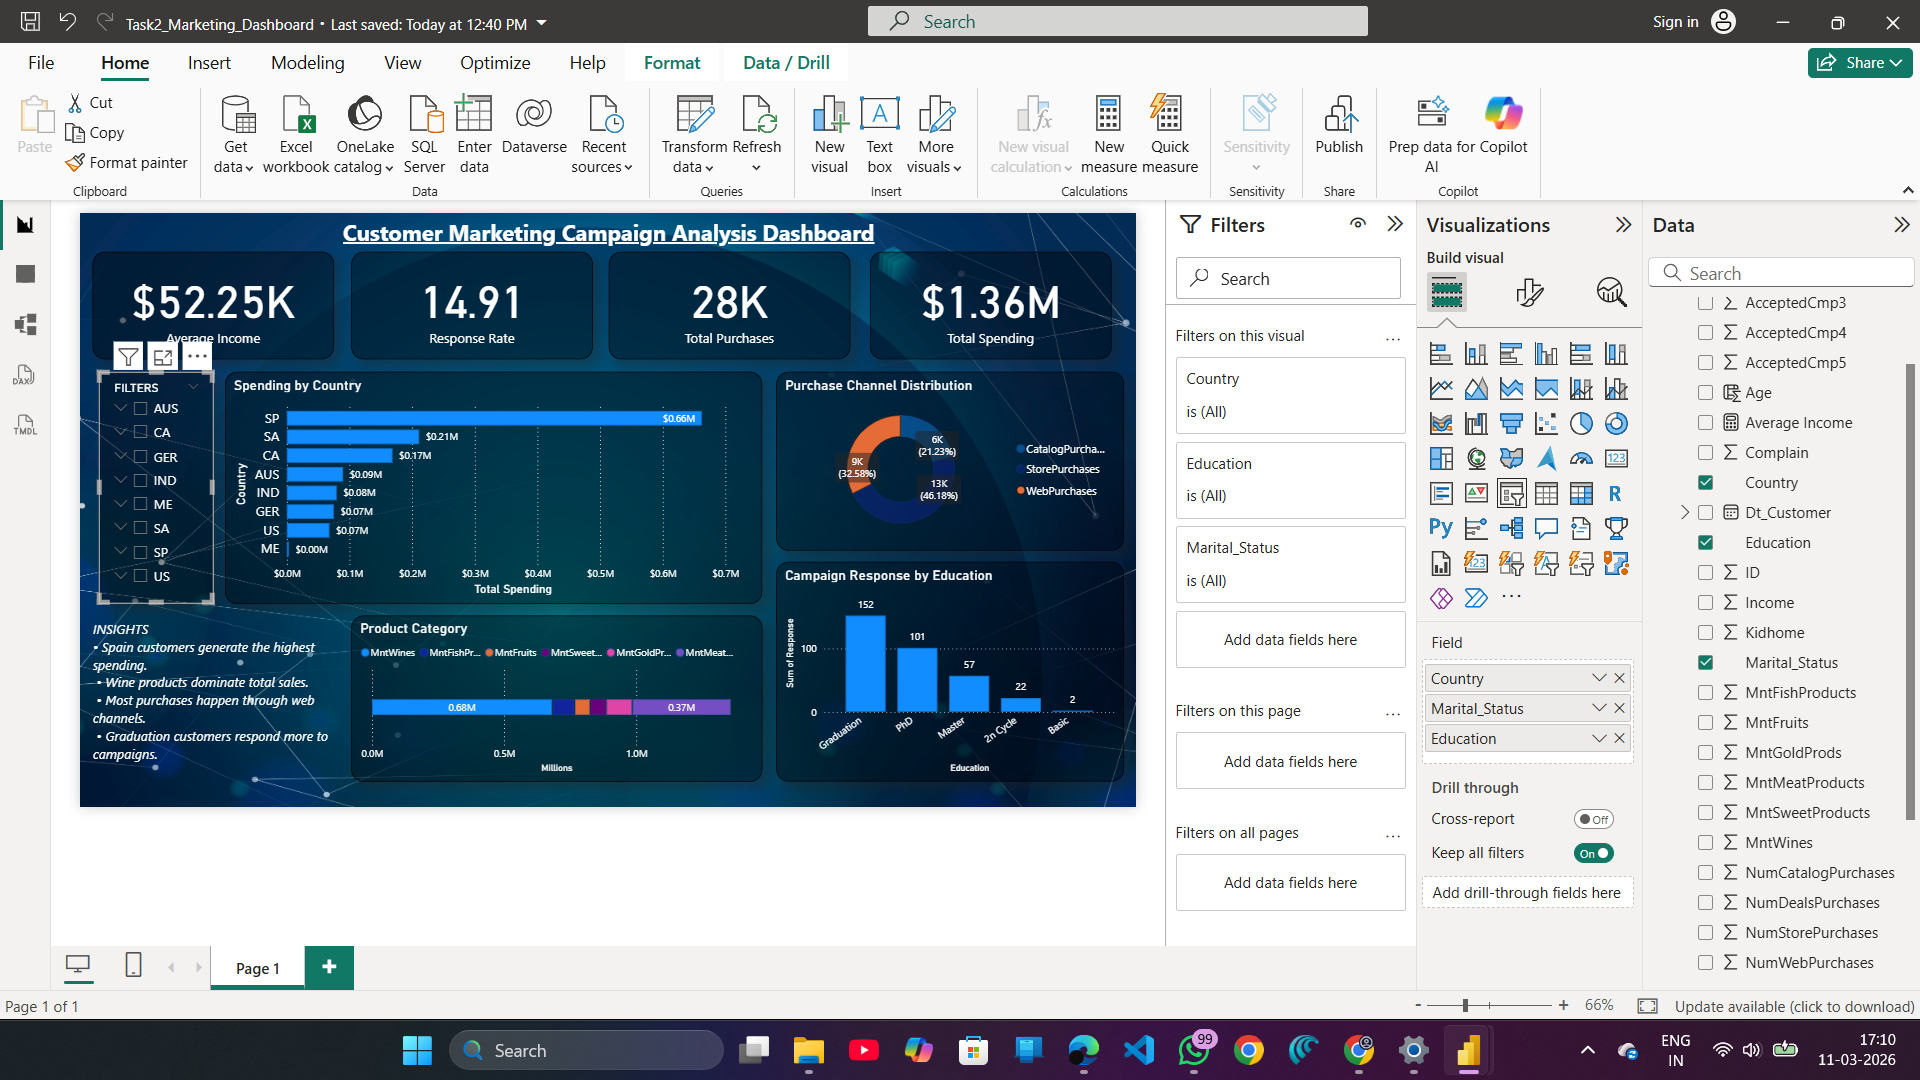

This screenshot's page, from the dashboard's own definition file:
{"tool":"powerbi","page":{"name":"Page 1","canvas":[1280,720],"ordinal":0},"visuals":[{"type":"card","fields":{"Values":["marketing_data.Average Income"]},"box":[15.2,47,292.4,130.3],"z":0},{"type":"card","fields":{"Values":["marketing_data.Total Spending"]},"box":[957.6,47,292.4,130.3],"z":1},{"type":"card","fields":{"Values":["marketing_data.Total Purchases"]},"box":[640.9,47,292.4,130.3],"z":2},{"type":"card","fields":{"Values":["marketing_data.Response Rate"]},"box":[328.8,47,292.4,130.3],"z":3},{"type":"clusteredBarChart","title":"Spending by Country","fields":{"Category":["marketing_data.Country"],"Y":["marketing_data.Total Spending"]},"box":[175.8,192.4,651.5,281.8],"z":4},{"type":"barChart","title":"Product Category","fields":{"Y":["Sum(marketing_data.MntWines)","Sum(marketing_data.MntFishProducts)","Sum(marketing_data.MntFruits)","Sum(marketing_data.MntSweetProducts)","Sum(marketing_data.MntGoldProds)","Sum(marketing_data.MntMeatProducts)"]},"box":[328.8,487.9,498.5,201.5],"z":5},{"type":"donutChart","title":"Purchase Channel Distribution","fields":{"Y":["Sum(marketing_data.NumCatalogPurchases)","Sum(marketing_data.NumStorePurchases)","Sum(marketing_data.NumWebPurchases)"]},"box":[843.9,192.4,421.2,216.7],"z":6},{"type":"clusteredColumnChart","title":"Campaign Response by Education","fields":{"Category":["marketing_data.Education"],"Y":["Sum(marketing_data.Response)"]},"box":[843.9,422.7,421.2,266.7],"z":7},{"type":"textbox","box":[197,0,887.9,62.1],"z":9},{"type":"slicer","fields":{"Values":["marketing_data.Country","marketing_data.Marital_Status","marketing_data.Education"]},"box":[22.7,192.4,139.4,281.8],"z":10},{"type":"textbox","box":[10.6,487.9,306.1,201.5],"z":11}]}

Visuals, with their boxes on the page's 1280x720 design canvas (x1, y1, x2, y2). These are canvas units, not pixel positions in the 1920x1080 screenshot, which may show the page scaled, cropped or inside an application window:
card - marketing_data.Average Income: [15, 47, 308, 177]
card - marketing_data.Total Spending: [958, 47, 1250, 177]
card - marketing_data.Total Purchases: [641, 47, 933, 177]
card - marketing_data.Response Rate: [329, 47, 621, 177]
"Spending by Country" clusteredBarChart: [176, 192, 827, 474]
"Product Category" barChart: [329, 488, 827, 689]
"Purchase Channel Distribution" donutChart: [844, 192, 1265, 409]
"Campaign Response by Education" clusteredColumnChart: [844, 423, 1265, 689]
textbox: [197, 0, 1085, 62]
slicer - marketing_data.Country x marketing_data.Marital_Status: [23, 192, 162, 474]
textbox: [11, 488, 317, 689]
